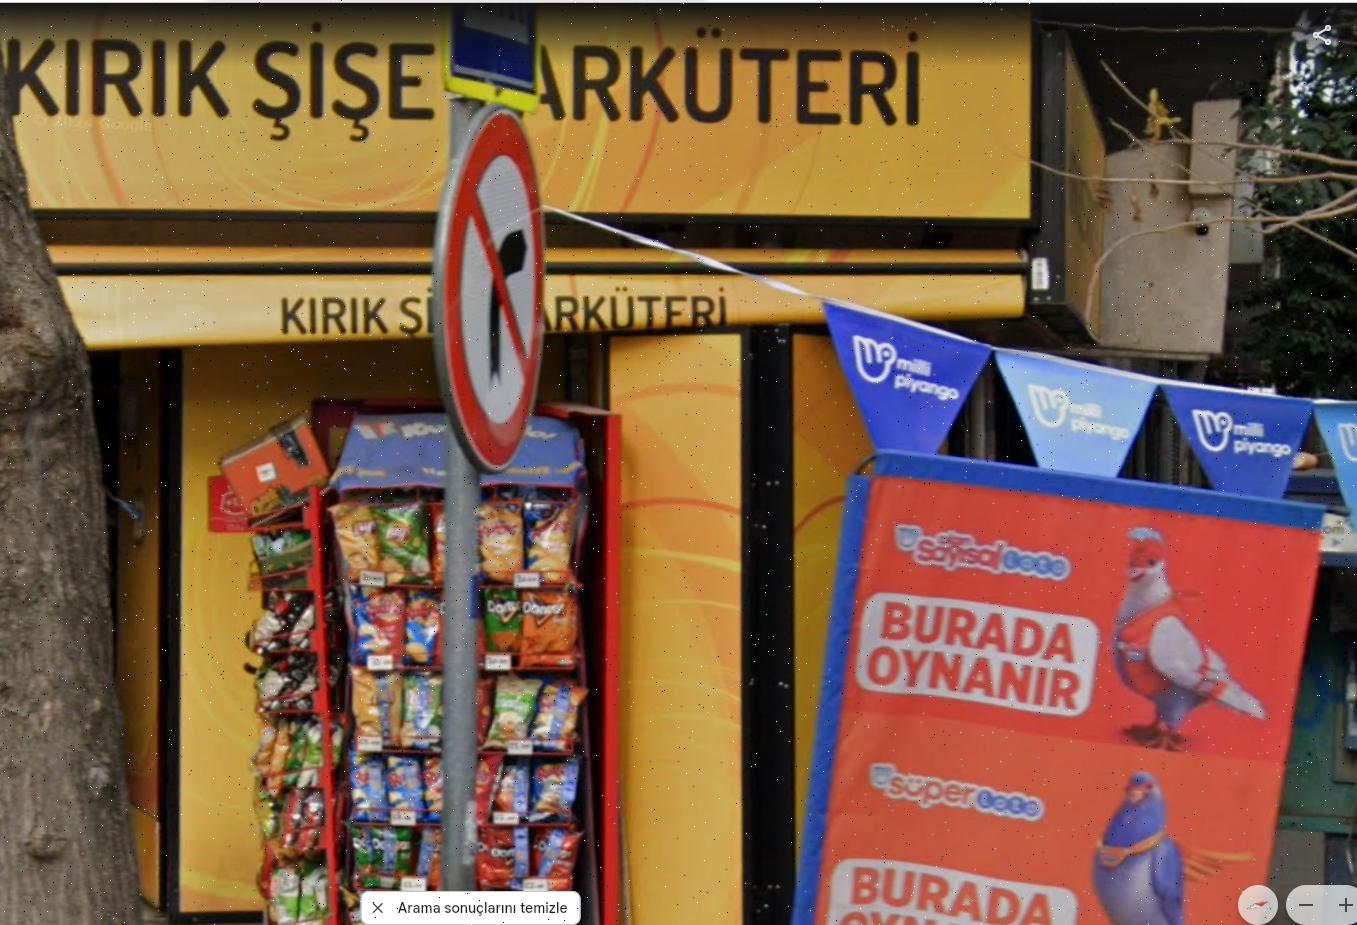rightturnsareforbidden: (449, 113, 555, 463)
